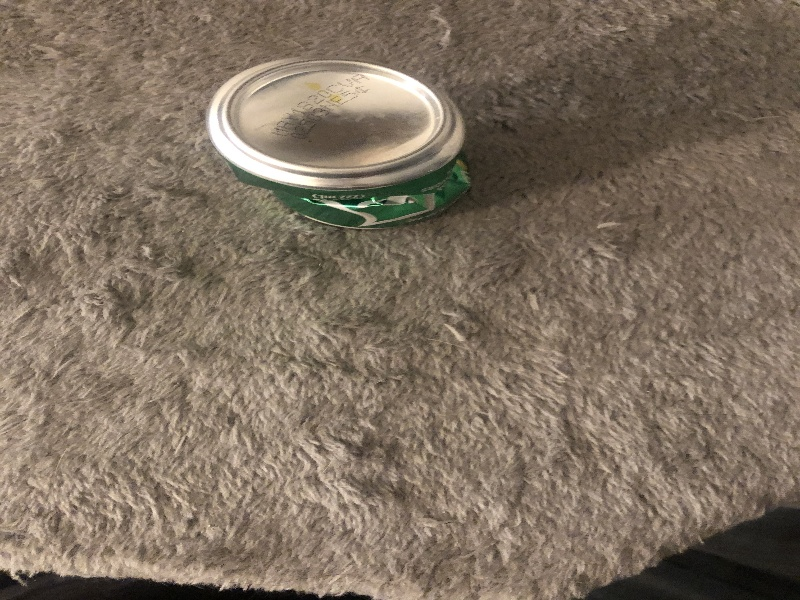metal: (198, 52, 480, 234)
